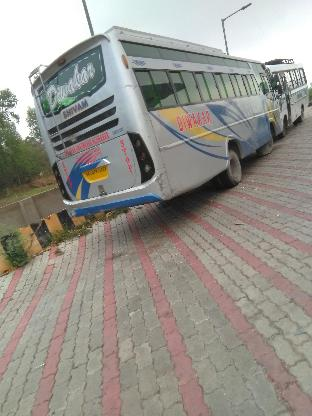bus: (27, 24, 283, 216), (266, 57, 310, 130)
